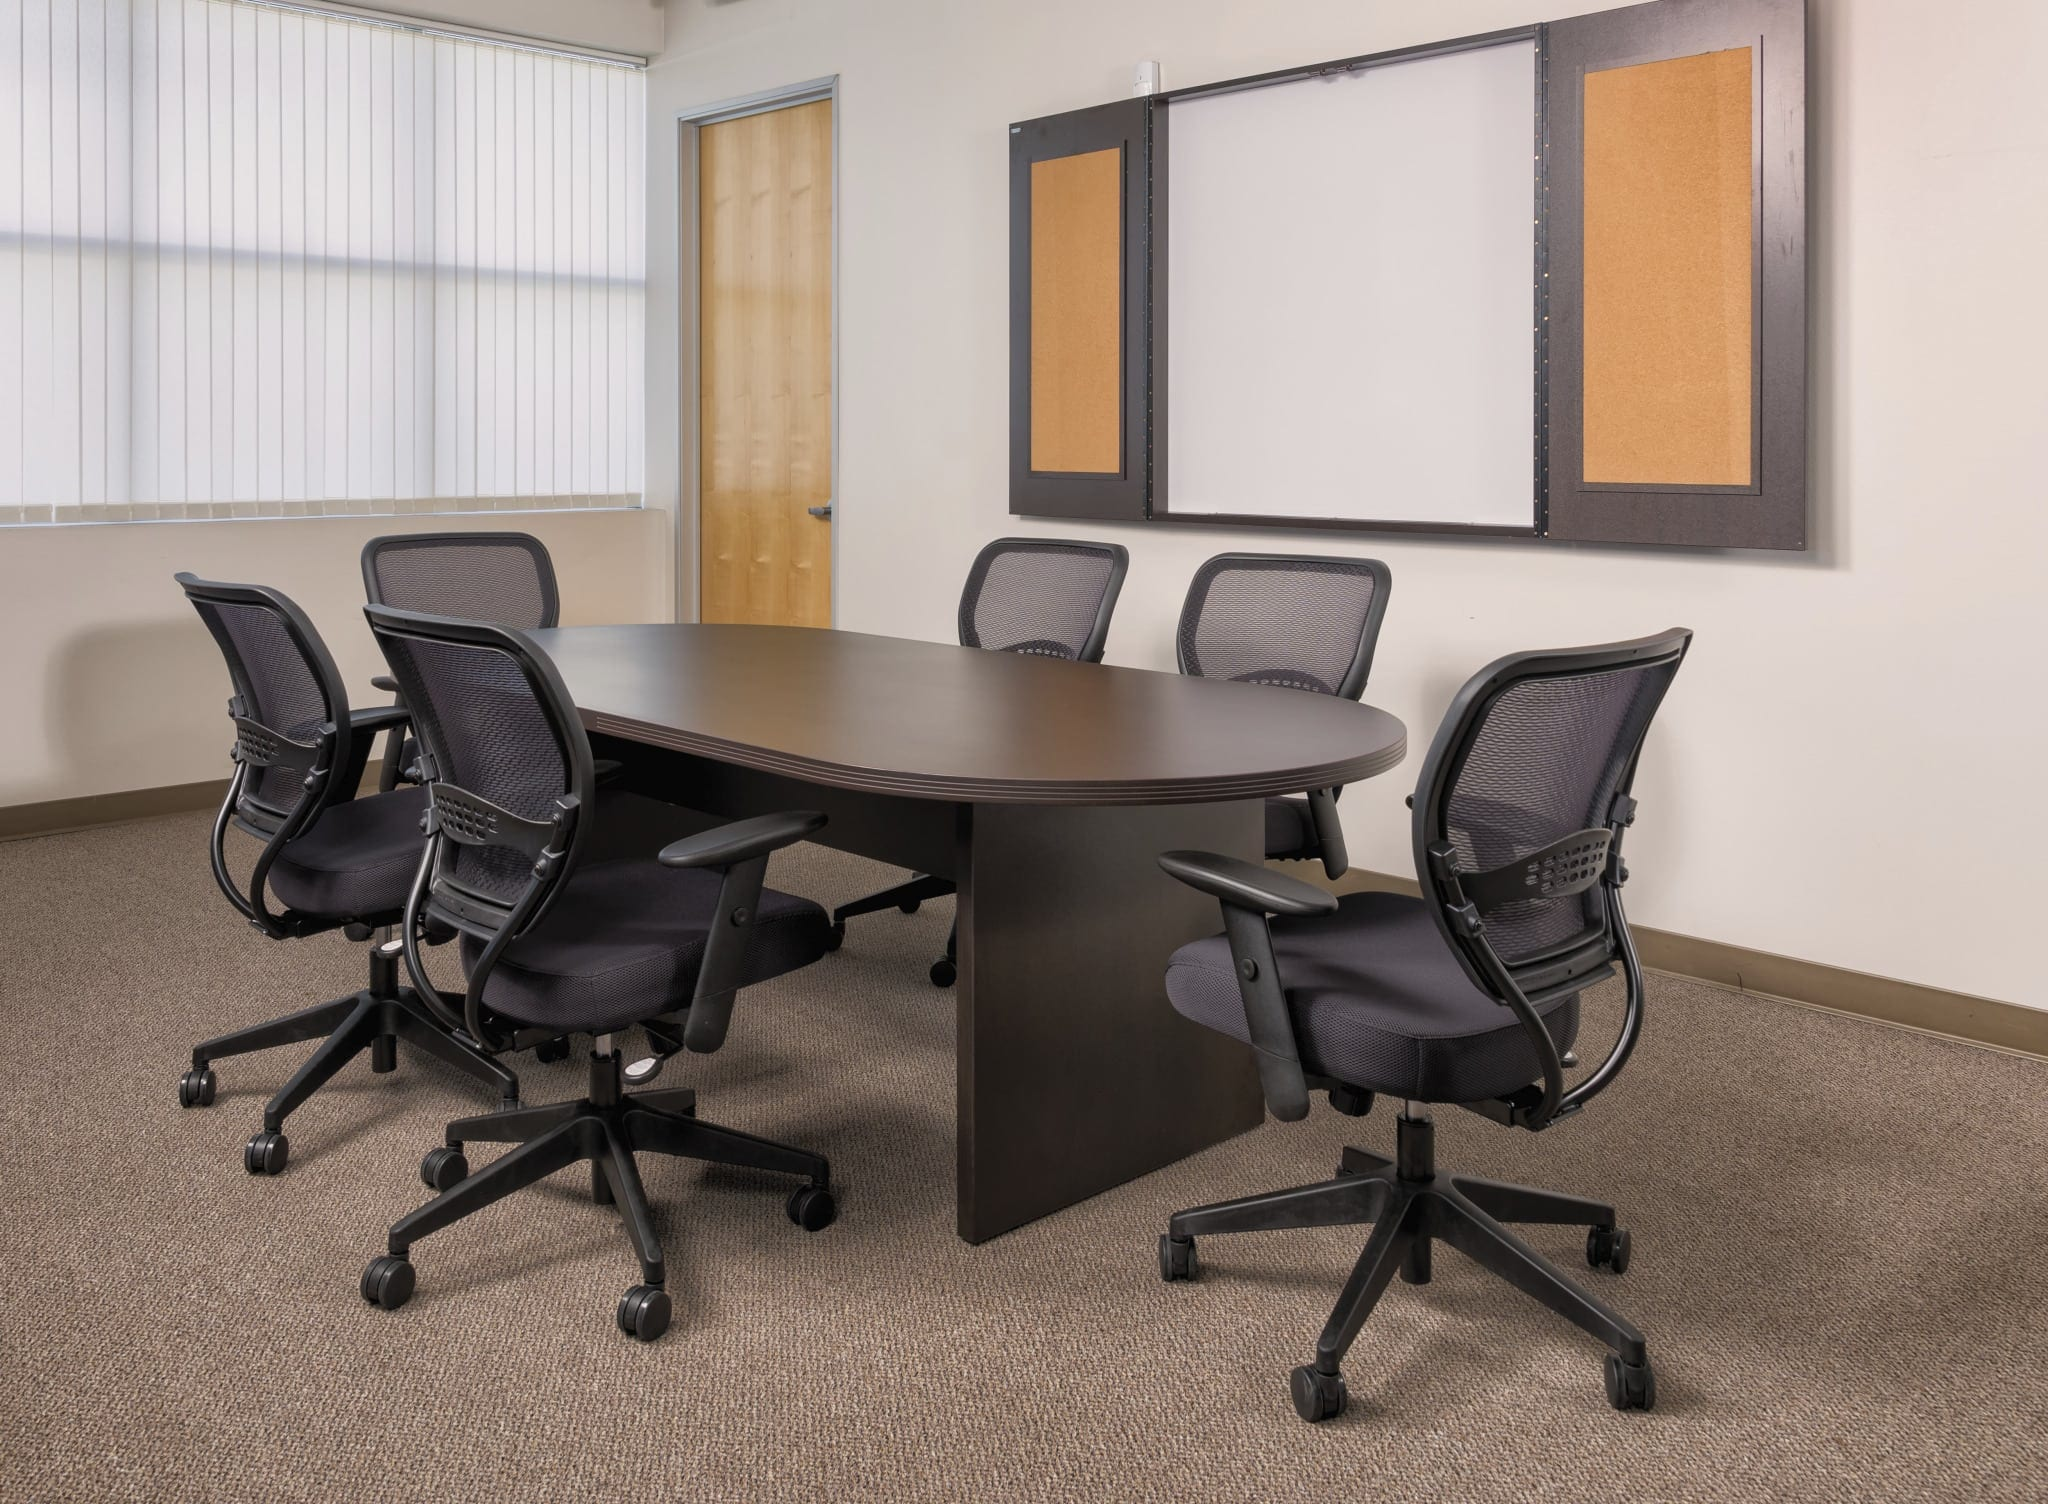conference_table: (375, 623, 1408, 1250)
